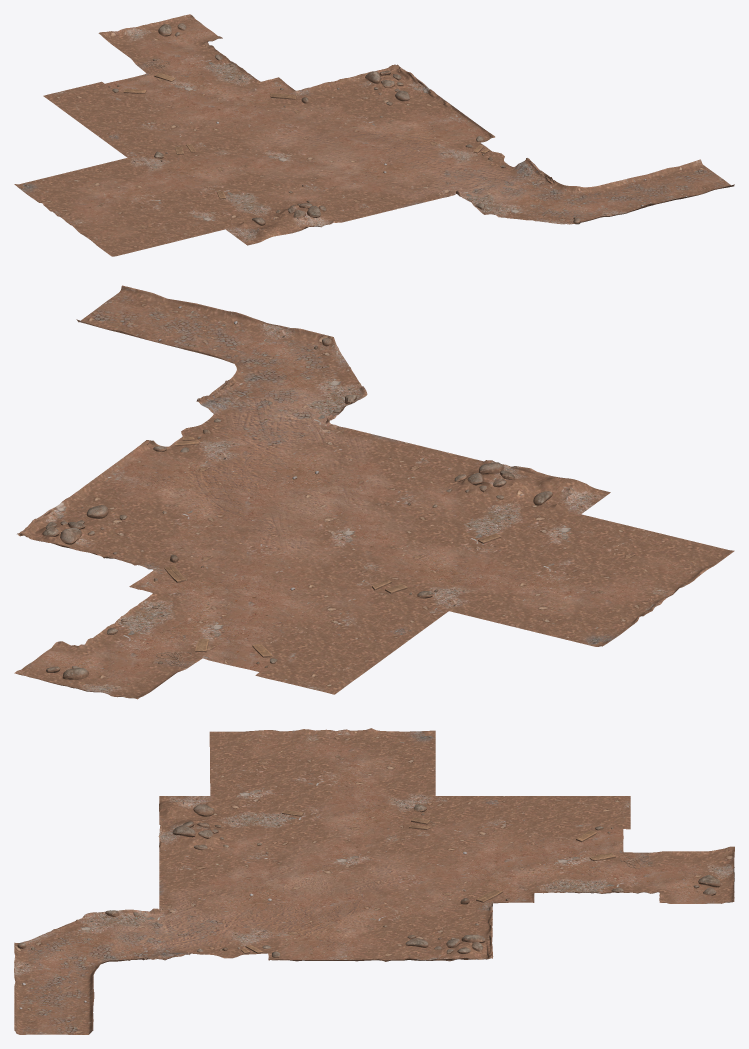
Rendered from xi_oam_ground.gltf.
3 renders of one model, top to bottom at view 1: azimuth 30°, elevation 25°; view 2: azimuth 150°, elevation 25°; view 3: azimuth 270°, elevation 25°, orthographic. The views are drawn at different scales.
Parts seen in each view (by area): view 1: xi_oam_ground; view 2: xi_oam_ground; view 3: xi_oam_ground.
Part boxes in pixels (left/top/right/bottom): xi_oam_ground: left=14, top=14, right=734, bottom=256; xi_oam_ground: left=14, top=285, right=734, bottom=699; xi_oam_ground: left=14, top=728, right=734, bottom=1034.
Bounding box in the file's own units: 20.43 × 0.457 × 20.55.
Materials: 3 (3 with a texture image).
